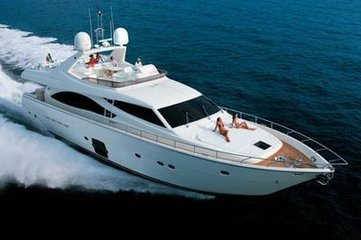yacht: (17, 13, 350, 204)
